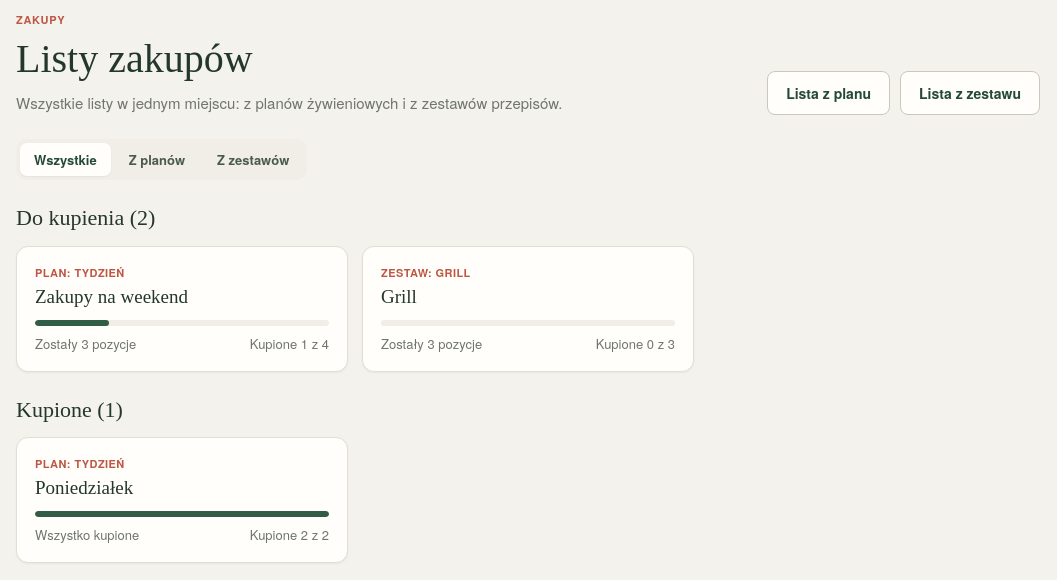
Test: shopping lists overview › filters the lists by their source
Expected: the element "Do kupienia (2)" is shown, [16,205,694,372]
Click the button "Z zestawów" at (253, 160), box [203,143,303,176]
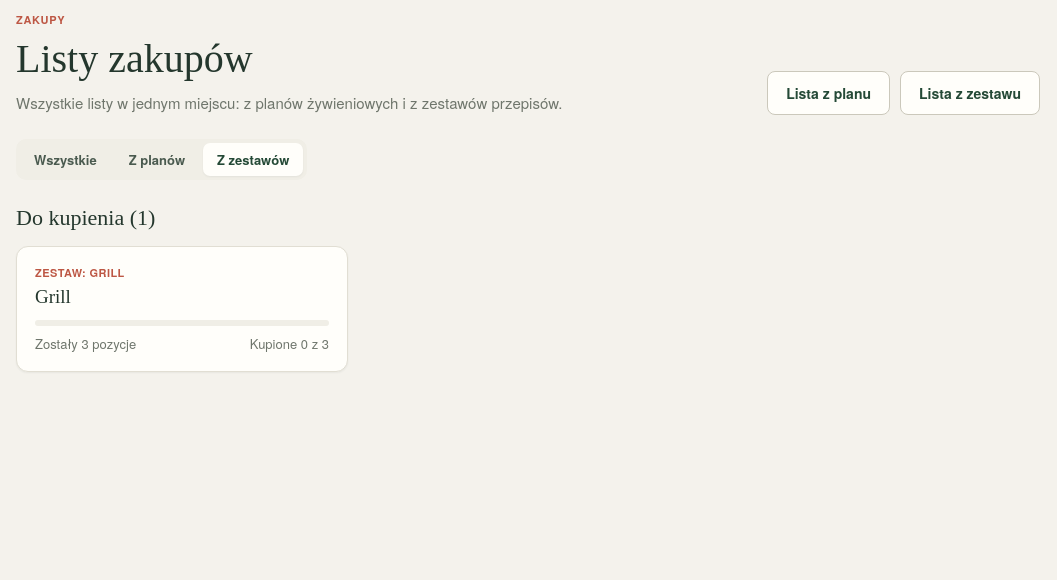
Now the element "Do kupienia (1)" is shown, box [16,205,348,372]
Now the button "Zakupy na weekend" is gone
